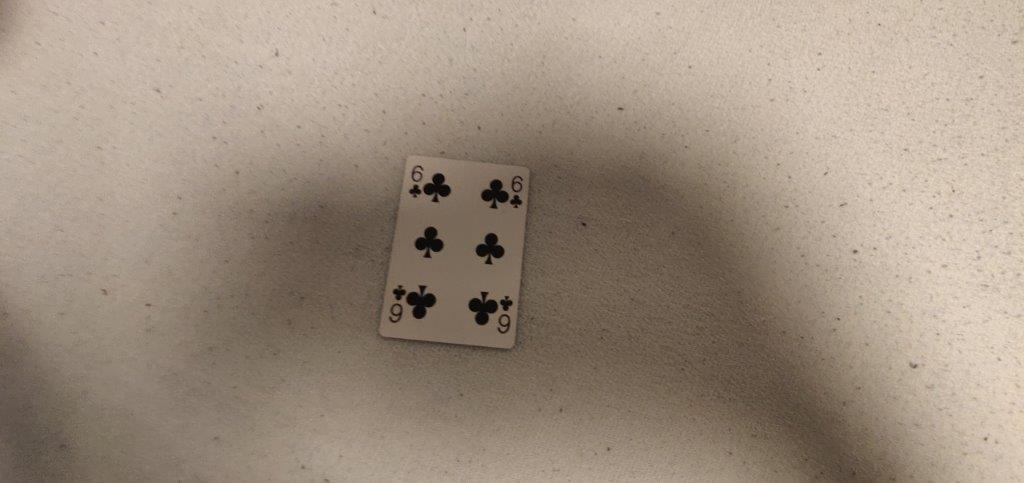6C: (508, 172, 527, 217), (406, 160, 426, 201)
